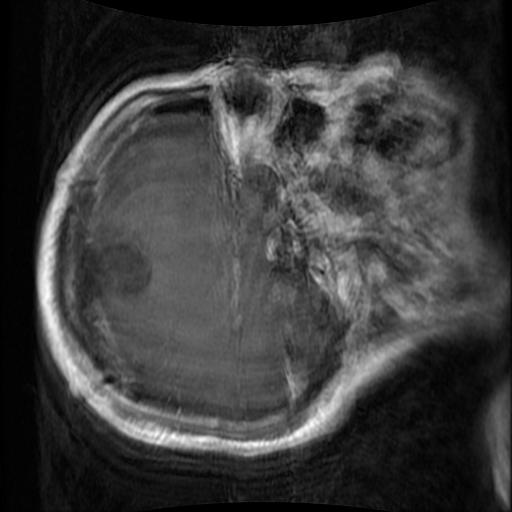glioma: (77, 245, 153, 306)
